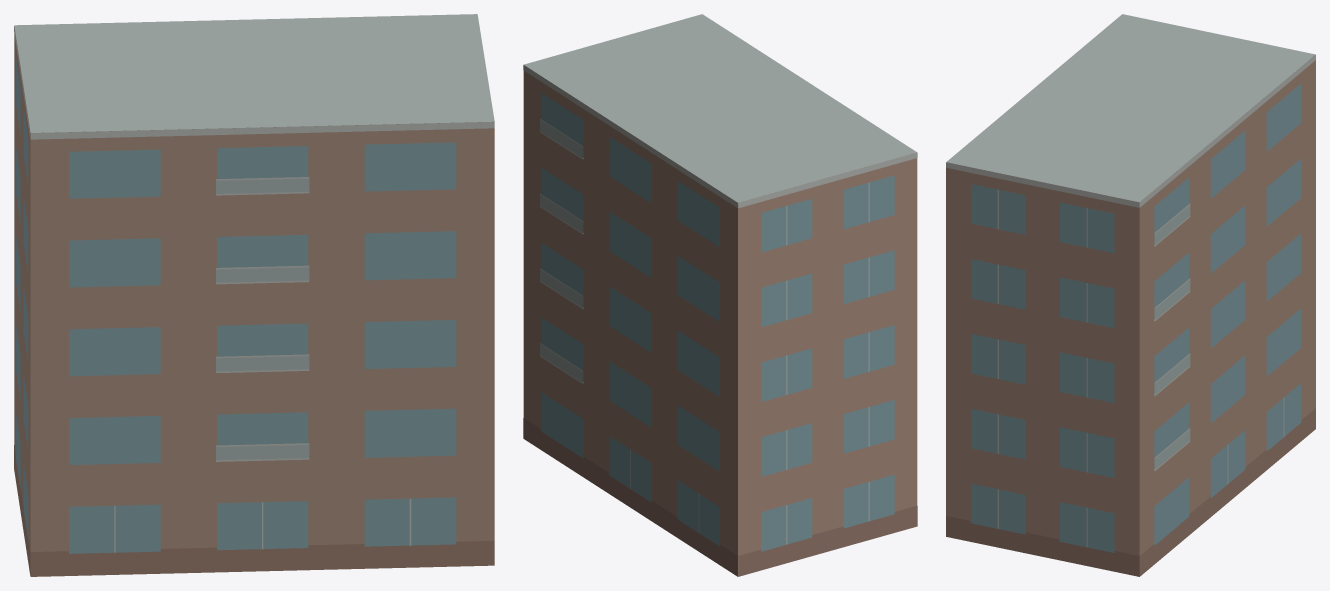
File: survey-upis-32941606.glb
3 views of the same model, side by side, from view 1: azimuth 30°, elevation 25°; view 2: azimuth 150°, elevation 25°; view 3: azimuth 270°, elevation 25° (orthographic). The views are drawn at different scales.
Visible parts, largest first — view 1: survey-upis-32941606.tmp; view 2: survey-upis-32941606.tmp; view 3: survey-upis-32941606.tmp.
Part boxes in pixels (x1=…): survey-upis-32941606.tmp: x1=14, y1=14, x2=494, y2=576; survey-upis-32941606.tmp: x1=523, y1=14, x2=917, y2=576; survey-upis-32941606.tmp: x1=946, y1=14, x2=1315, y2=576.
Size of the model in its own units: 17.69 by 16.4 by 14.68.
